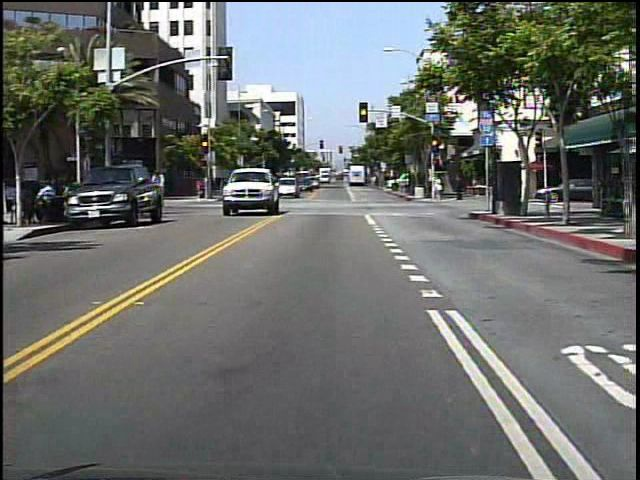person: (148, 168, 170, 205), (452, 172, 467, 205), (433, 175, 445, 199), (196, 175, 208, 199)
